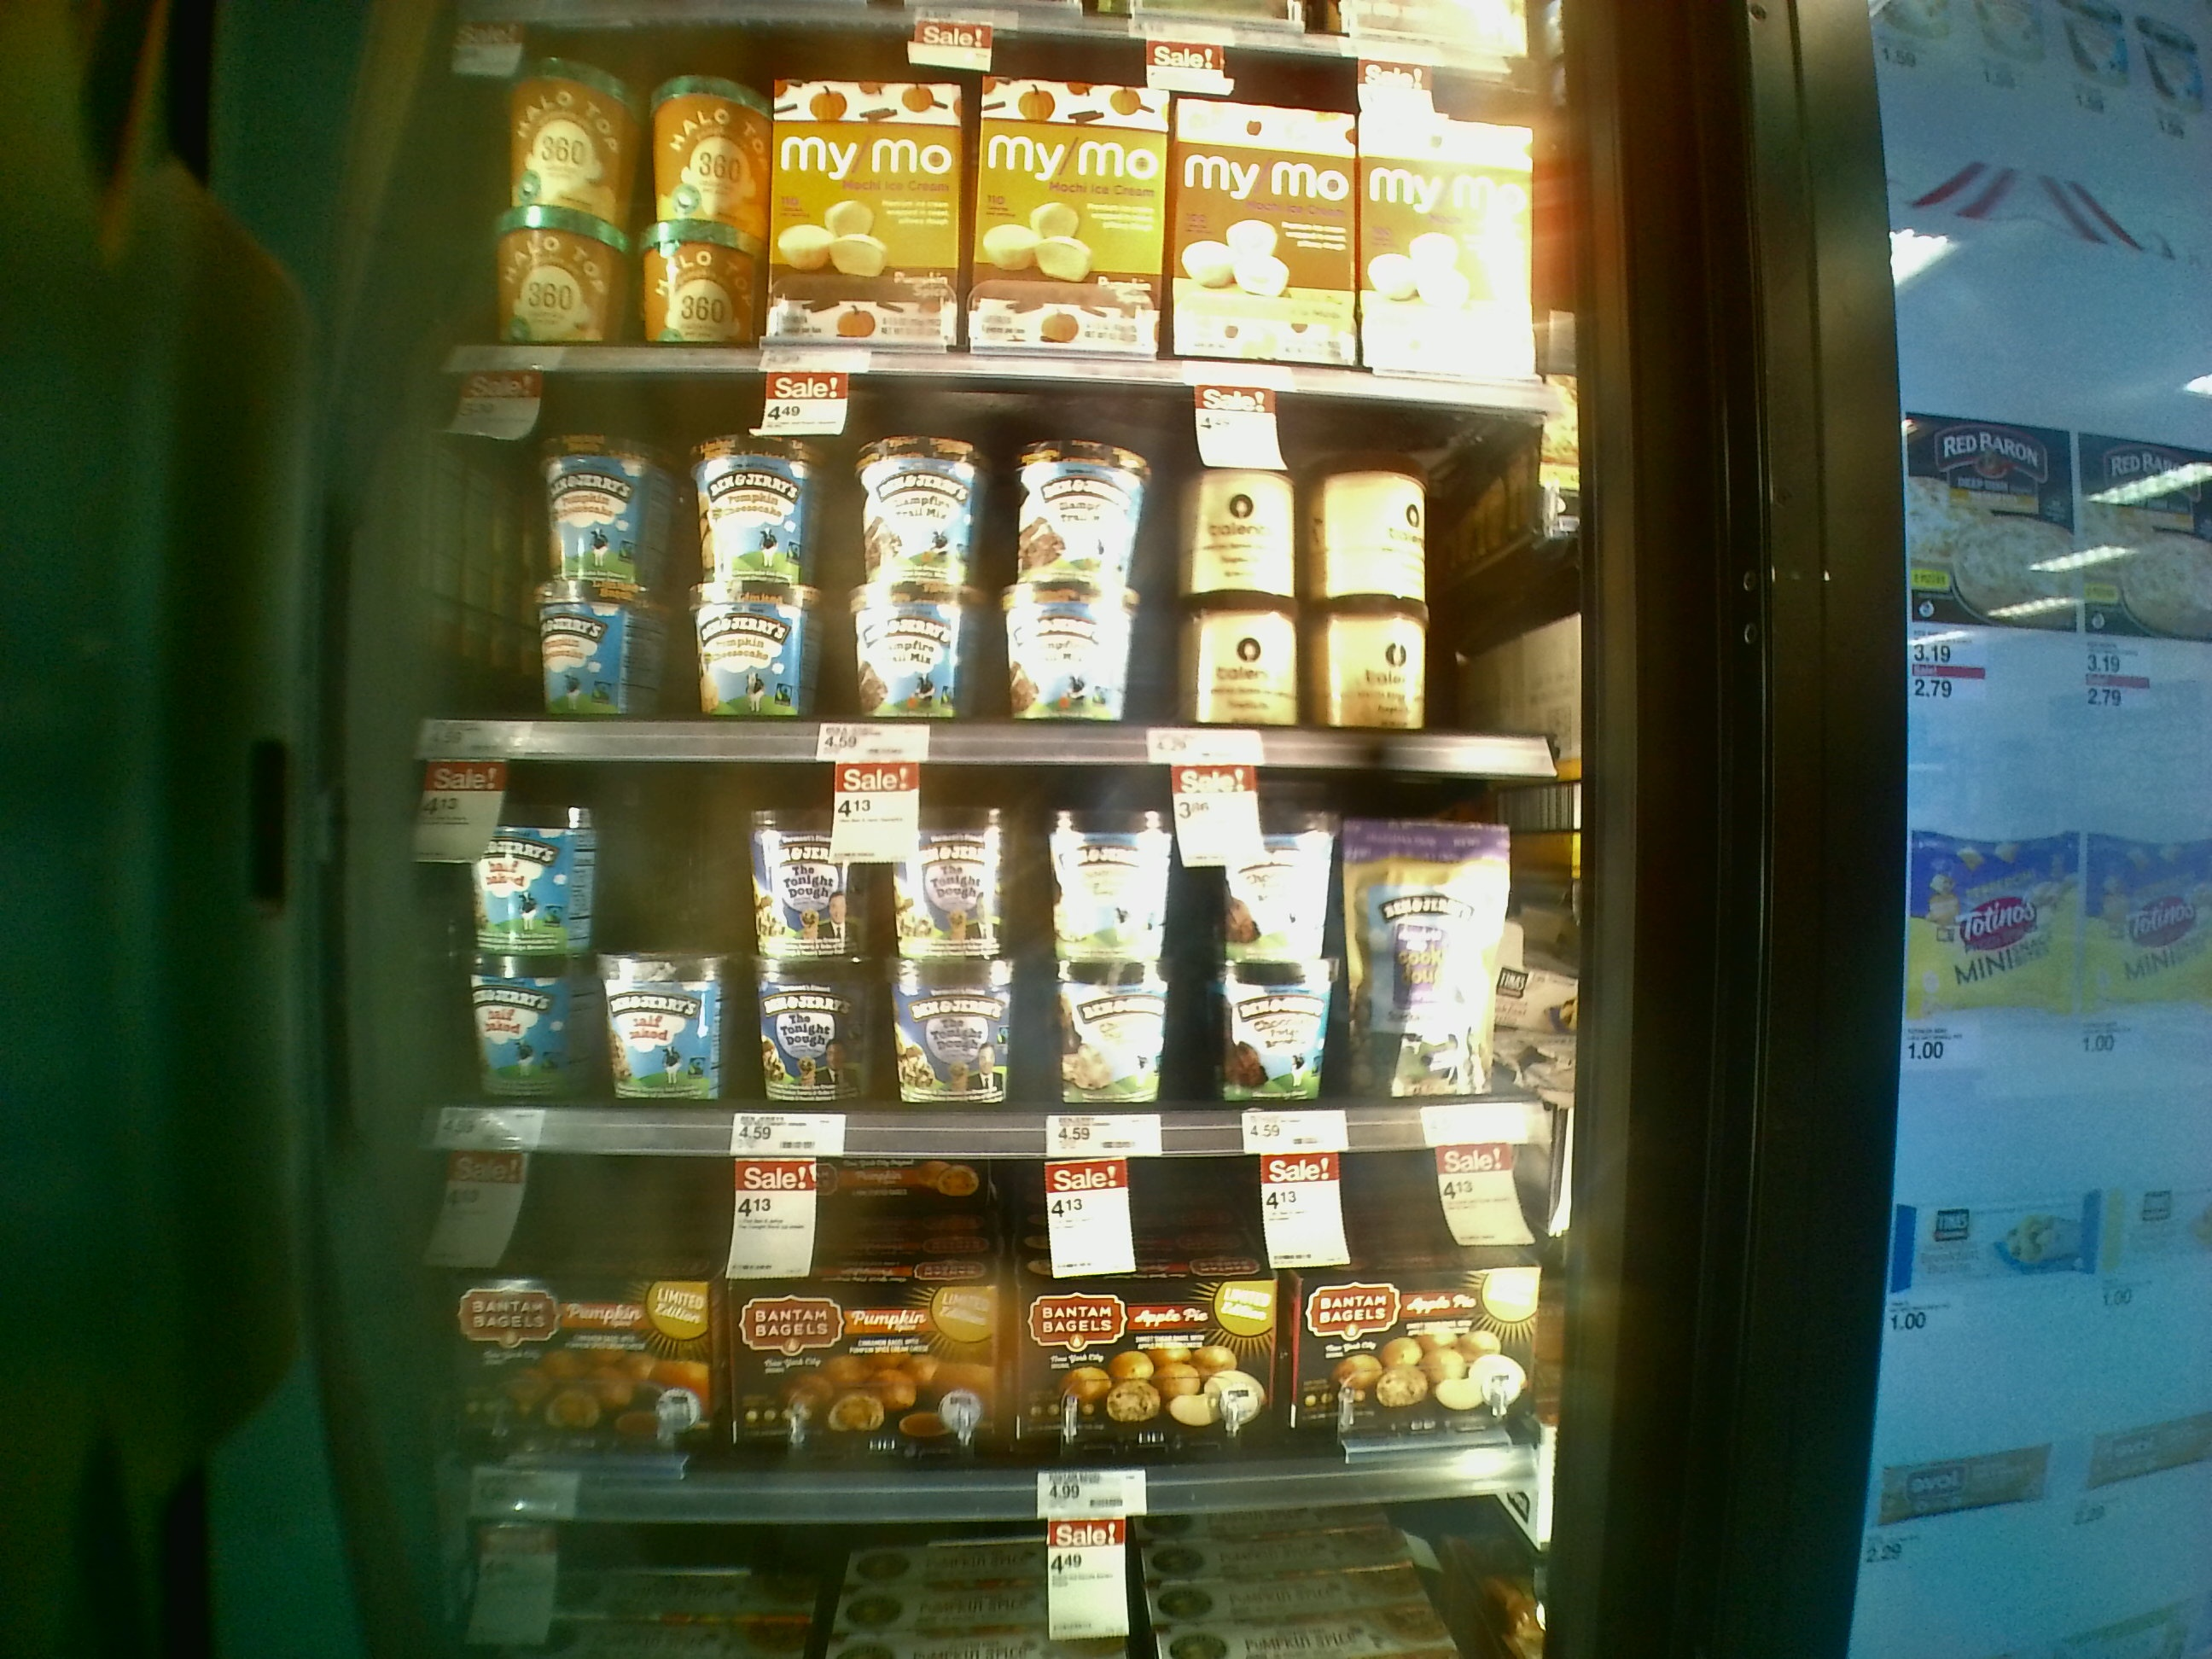shelf: (394, 746, 1575, 1161), (415, 369, 1583, 774), (402, 1148, 1578, 1518)
